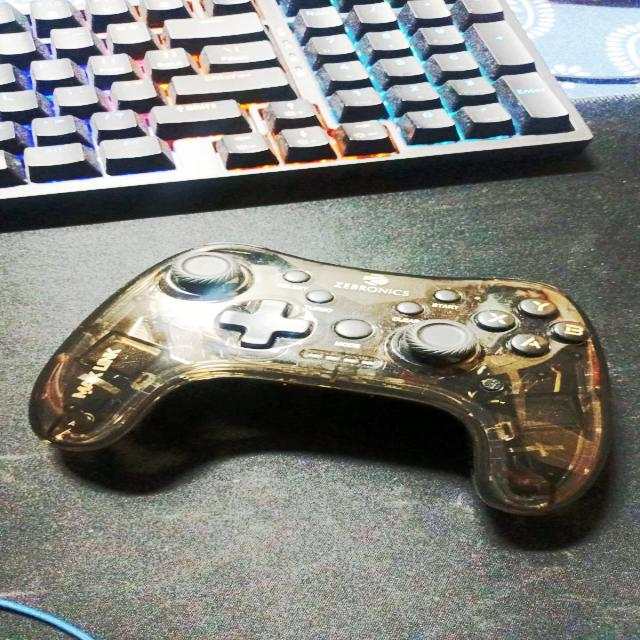gamepad: (26, 238, 615, 548)
